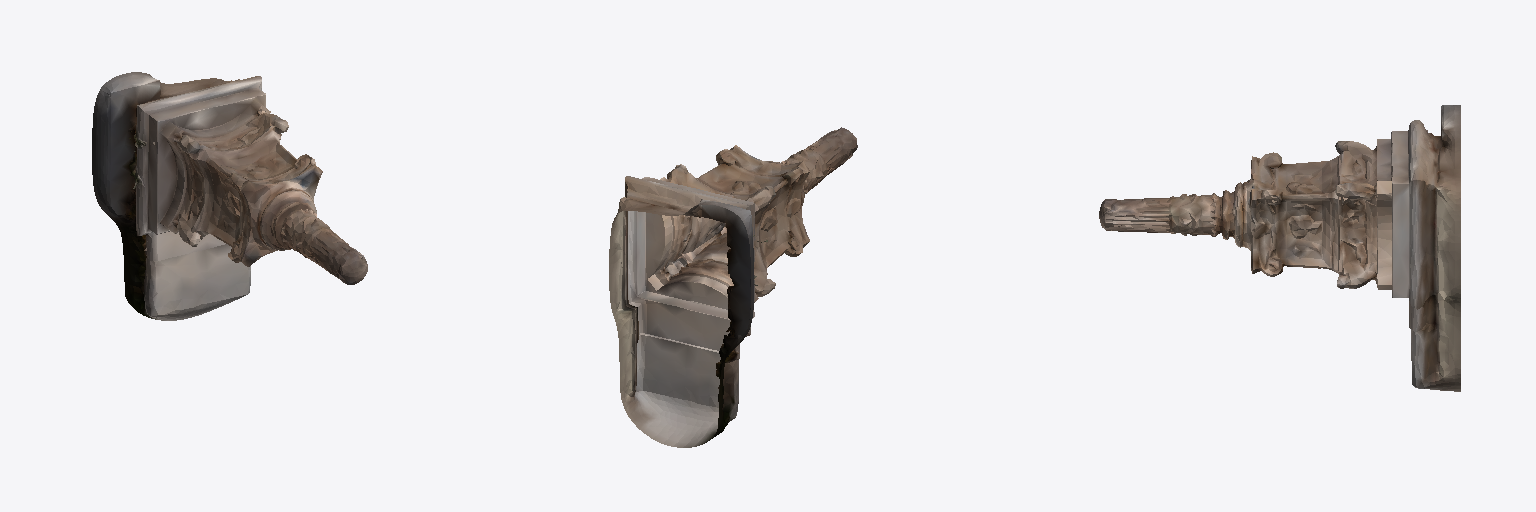
3 views of the same model, side by side, from view 1: azimuth 30°, elevation 25°; view 2: azimuth 150°, elevation 25°; view 3: azimuth 270°, elevation 25° (orthographic).
Bounding box in the file's own units: 3.31 × 5.44 × 7.07.
Materials: 1 (1 with a texture image).